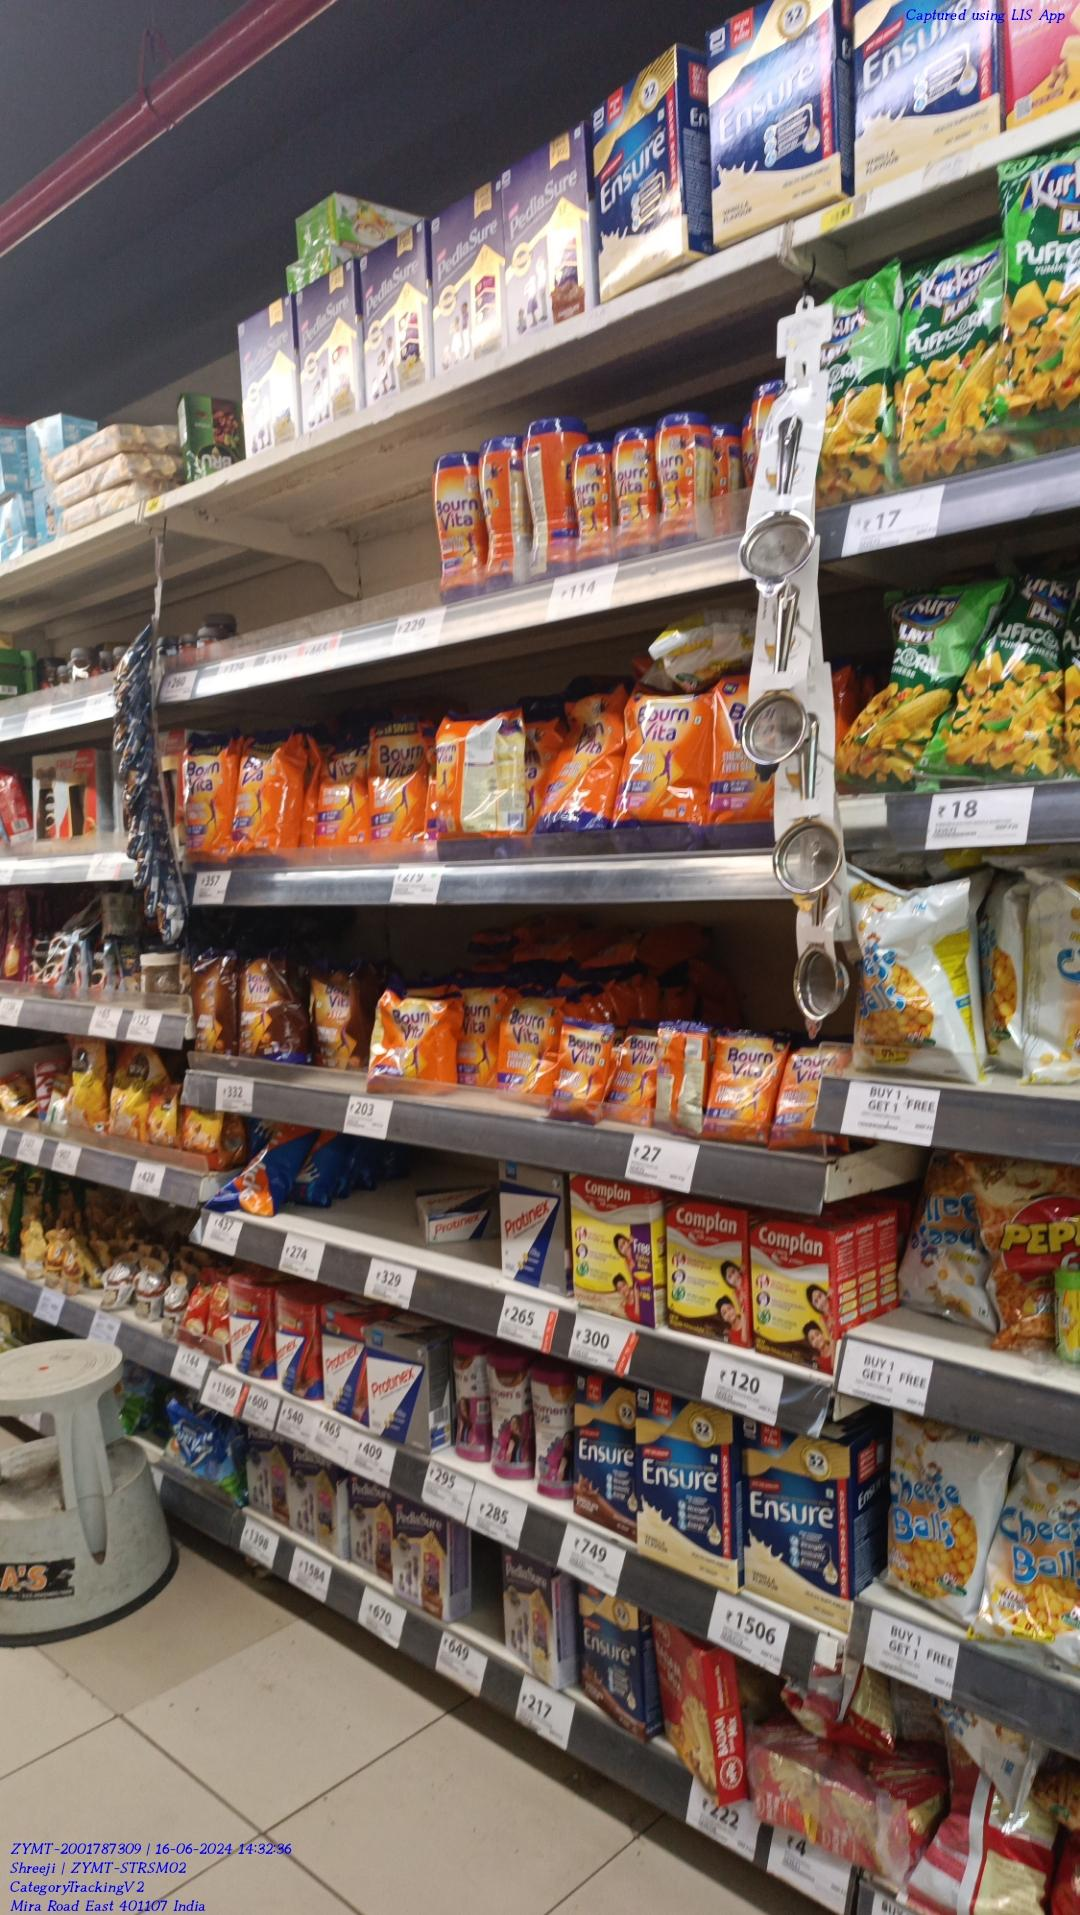ENSURE_VANILLA_400_G_PACK: (712, 0, 846, 235), (851, 0, 996, 192), (743, 1411, 851, 1601), (592, 100, 699, 278), (638, 1393, 738, 1564)
PEDIASURE_CHOCOLATE_500_G_PACK: (505, 124, 587, 330), (393, 1511, 454, 1605), (239, 1436, 291, 1522)
PEDIASURE_VANILLA_500_G_PACK: (504, 1552, 562, 1681), (292, 1434, 341, 1549), (345, 1481, 396, 1574)
